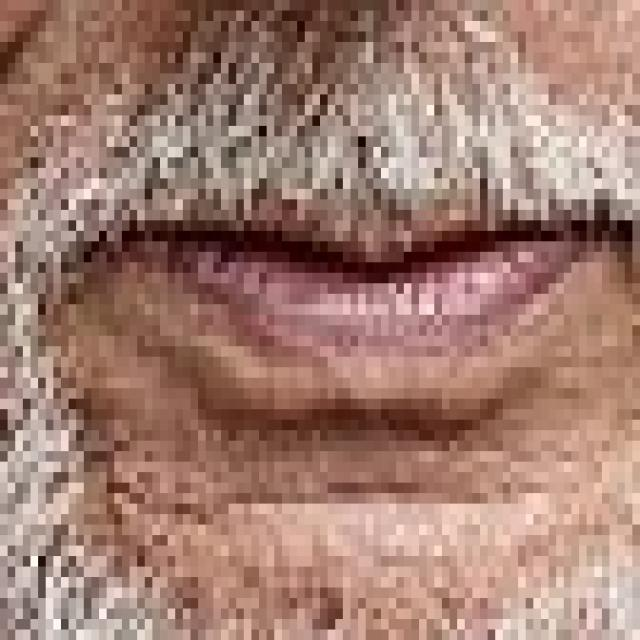closed-mouth: (106, 200, 610, 430)
